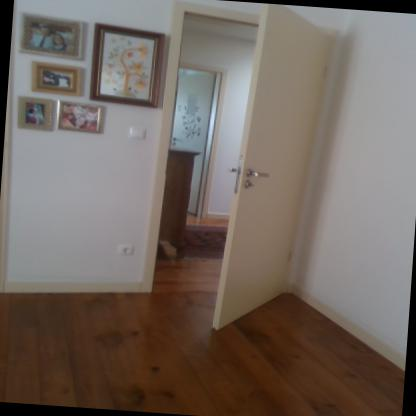semi: (134, 9, 344, 340)
